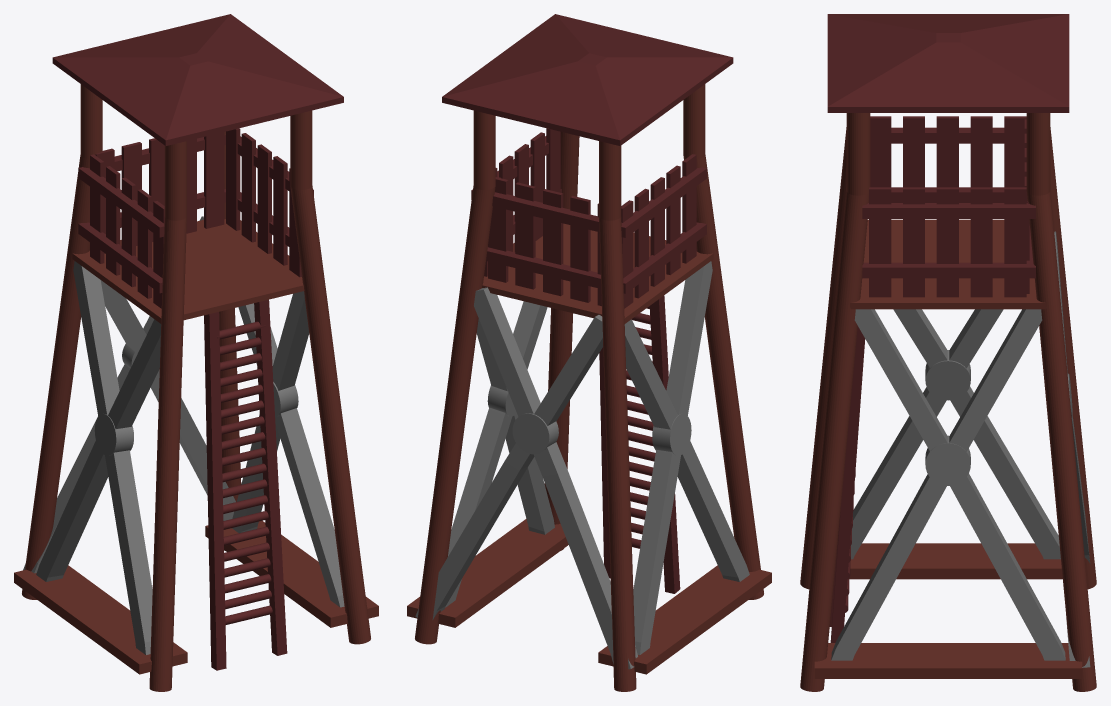
File: observation tower.glb
3 renders of one model, left to right at view 1: azimuth 30°, elevation 25°; view 2: azimuth 150°, elevation 25°; view 3: azimuth 270°, elevation 25°, orthographic. The views are drawn at different scales.
Visible parts, largest first — view 1: Cylinder, Cube.001, Plane.001, Cube.004, Cube.009, Cube, Plane, Cylinder.001, Cube.003, Cube.007, Cube.006, Cube.005 (+1 smaller); view 2: Cylinder, Cube.001, Plane.001, Cube.007, Cube, Cube.004, Cube.003, Plane, Cube.009, Cylinder.001, Cube.006, Cube.002 (+4 smaller); view 3: Cylinder, Cube.001, Plane.001, Cube.004, Cube, Plane, Cube.009, Cube.005, Cube.006, Cylinder.002, Cube.007.
Boxes of the visible parts, box(x1,y1,x2,y2) form: Cylinder: box(22, 84, 370, 691); Cube.001: box(36, 261, 344, 654); Plane.001: box(52, 14, 343, 145); Cube.004: box(90, 128, 301, 308); Cube.009: box(204, 299, 287, 670); Cube: box(14, 520, 378, 674); Plane: box(72, 219, 304, 323); Cylinder.001: box(217, 321, 272, 624); Cube.003: box(95, 132, 224, 253); Cube.007: box(23, 216, 235, 573); Cube.006: box(78, 136, 313, 237); Cube.005: box(78, 189, 289, 293); Cylinder: box(415, 84, 763, 691); Cube.001: box(445, 261, 749, 654); Plane.001: box(442, 14, 733, 145); Cube.007: box(415, 287, 637, 669); Cube: box(407, 519, 771, 674); Cube.004: box(484, 128, 696, 308); Cube.003: box(488, 177, 601, 306); Plane: box(482, 223, 713, 323); Cube.009: box(599, 295, 680, 593); Cylinder.001: box(626, 306, 655, 548); Cube.006: box(471, 136, 706, 237); Cube.002: box(486, 247, 601, 288); Cylinder: box(800, 113, 1096, 691); Cube.001: box(831, 309, 1065, 660); Plane.001: box(827, 14, 1069, 112); Cube.004: box(869, 116, 1026, 297); Cube: box(814, 543, 1082, 678); Plane: box(850, 219, 1046, 309); Cube.009: box(829, 326, 865, 642); Cube.005: box(862, 187, 1035, 278); Cube.006: box(862, 127, 1035, 218); Cylinder.002: box(925, 350, 970, 485); Cube.007: box(1054, 231, 1090, 667).
Size of the model in its own units: 4.95 by 11.14 by 4.98.
